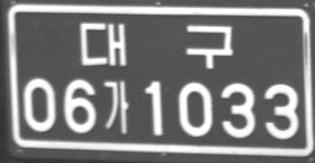0: (178, 81, 213, 137), (22, 77, 55, 132)
1: (138, 80, 172, 136)
3: (220, 81, 256, 138), (263, 84, 299, 139)
6: (64, 77, 97, 134)
가: (102, 80, 129, 134)
대구_D: (79, 21, 232, 69)
